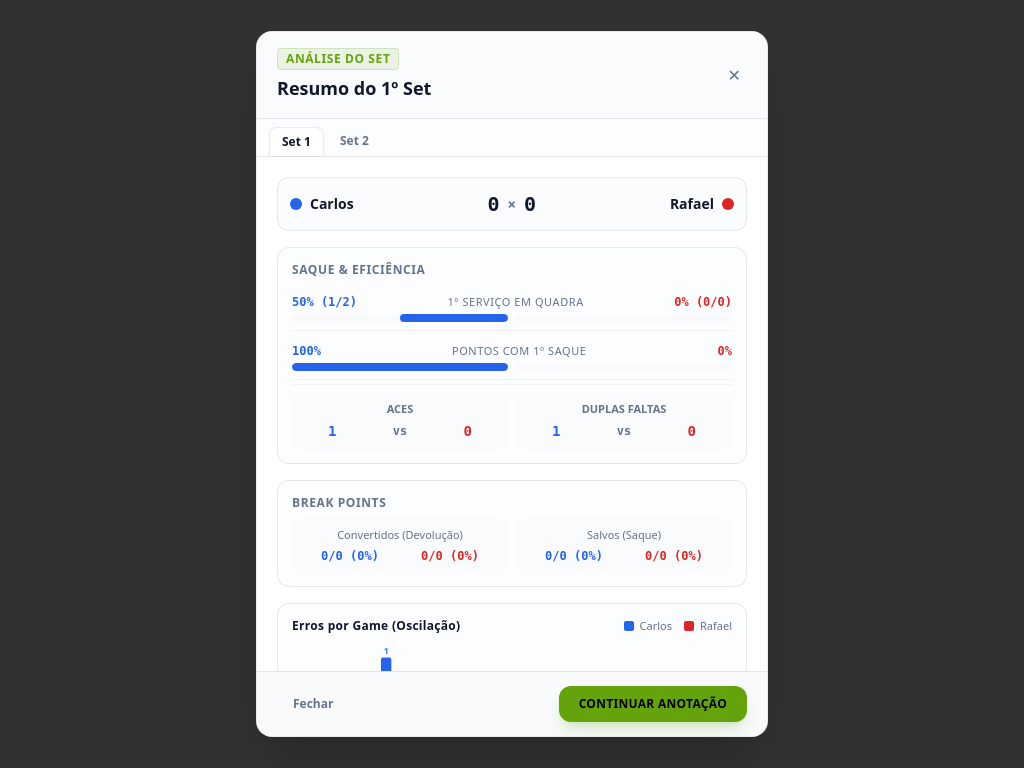
Scenario: SetSummaryModal › renderiza abas para múltiplos sets concluídos e permite alternar
This screenshot has width=1024, height=768.
Expected: the button "Set 1" is shown, left=269, top=127, right=324, bottom=156
Step 1. Click the button "Set 2" → click(354, 141), box left=328, top=127, right=381, bottom=156
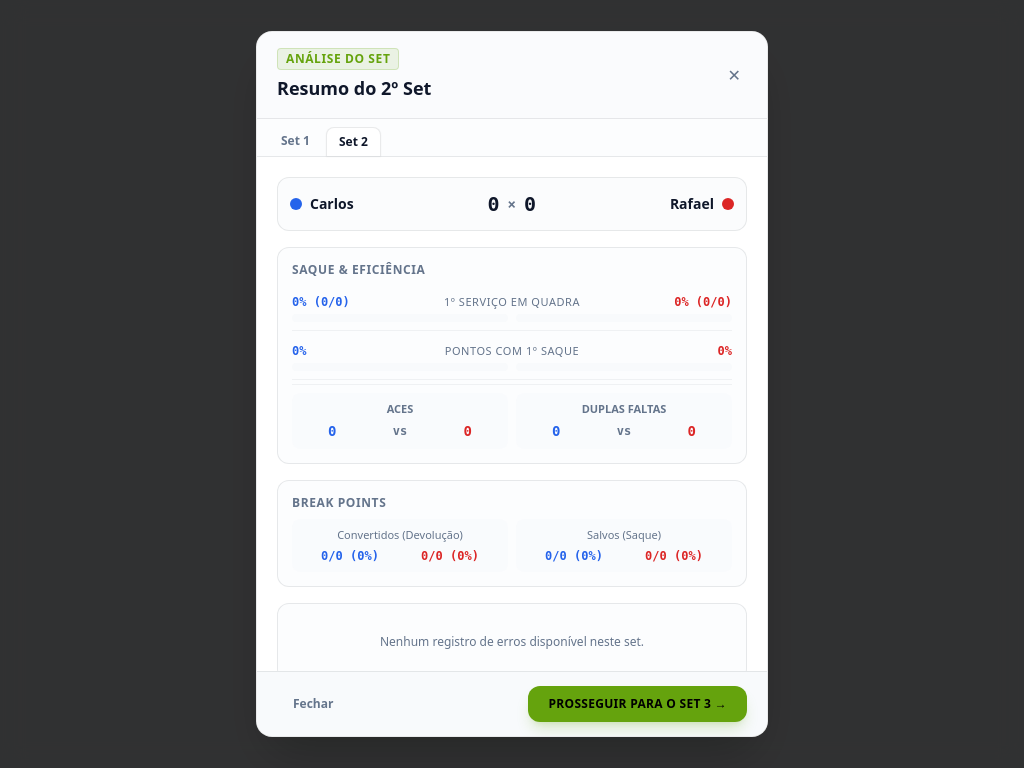
Now the heading "Resumo do 2º Set" is shown, box left=277, top=74, right=431, bottom=102
